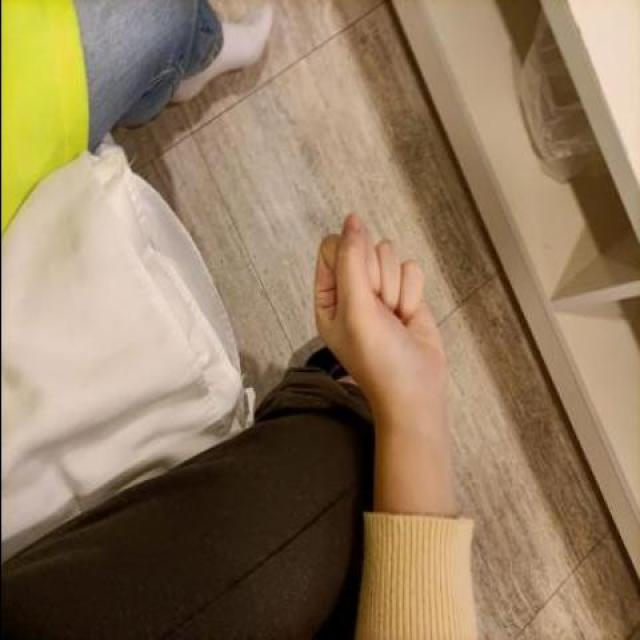Closed Hand: (304, 206, 456, 415)
